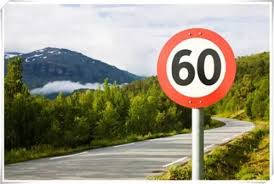Speed_limit_60km: (155, 27, 238, 107)
